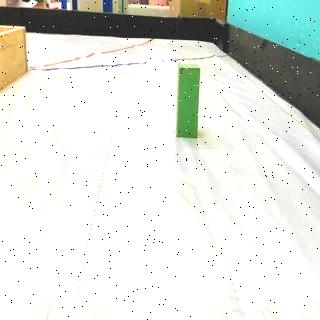greenbox: (178, 64, 200, 139)
